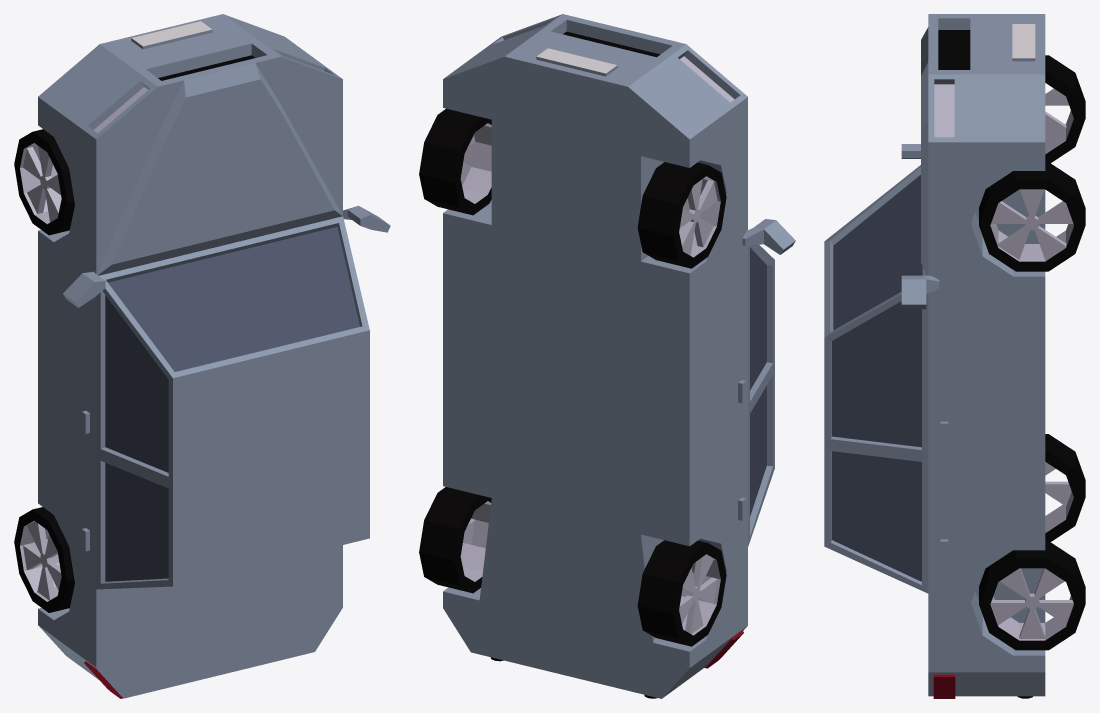
Rendered from Sedan.glb.
3 renders of one model, left to right at view 1: azimuth 30°, elevation 25°; view 2: azimuth 150°, elevation 25°; view 3: azimuth 270°, elevation 25°, orthographic.
Parts seen in each view (by area): view 1: Mesh_0; view 2: Mesh_0; view 3: Mesh_0.
Part boxes in pixels (left/top/right/bottom): Mesh_0: left=14, top=14, right=390, bottom=698; Mesh_0: left=419, top=14, right=795, bottom=698; Mesh_0: left=824, top=14, right=1085, bottom=698.
Bounding box in the file's own units: 2.81 × 5.23 × 2.01.
